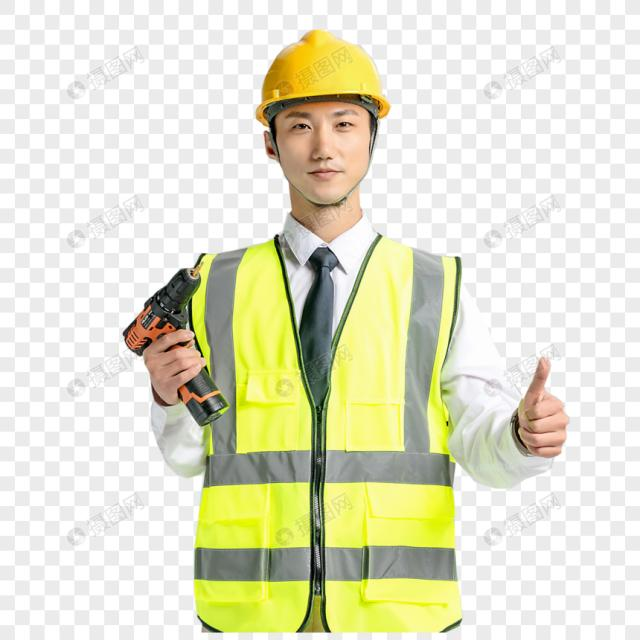helmet: (249, 26, 393, 120)
no-goggles: (270, 109, 372, 143)
vest: (186, 228, 470, 640)
